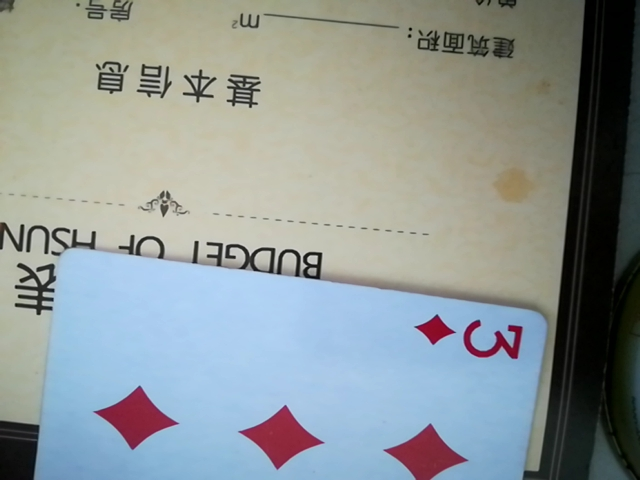fk 3: (34, 247, 562, 478)
